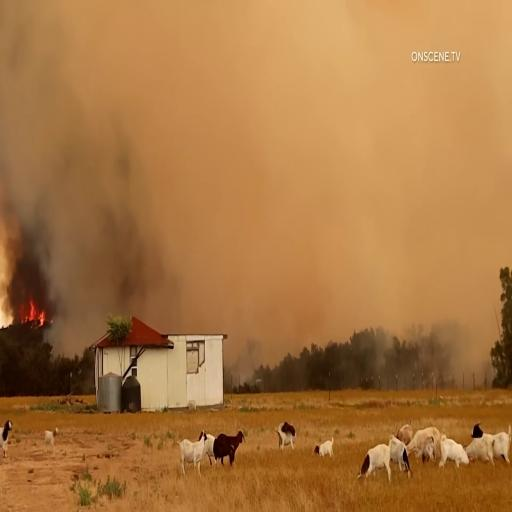fire: (18, 270, 61, 335)
smoke: (88, 122, 192, 323)
